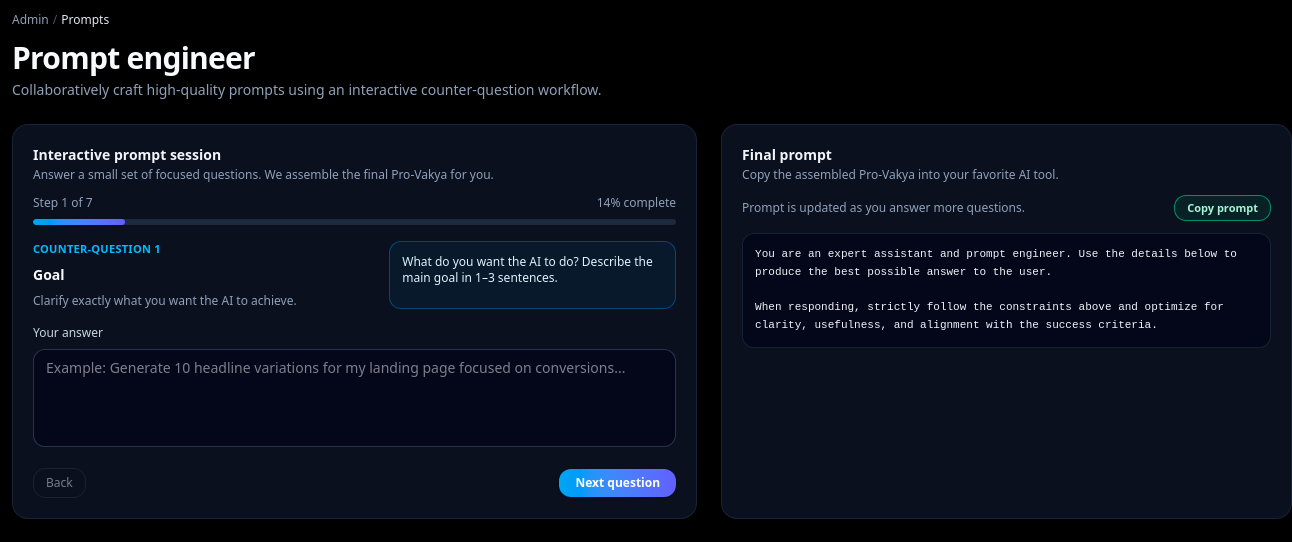
Test case: AdminPromptEngineer › walks through questions and builds a final prompt
Replace the text in the text box with "Help me create landing page copy" at (355, 398), box [33, 349, 676, 447]
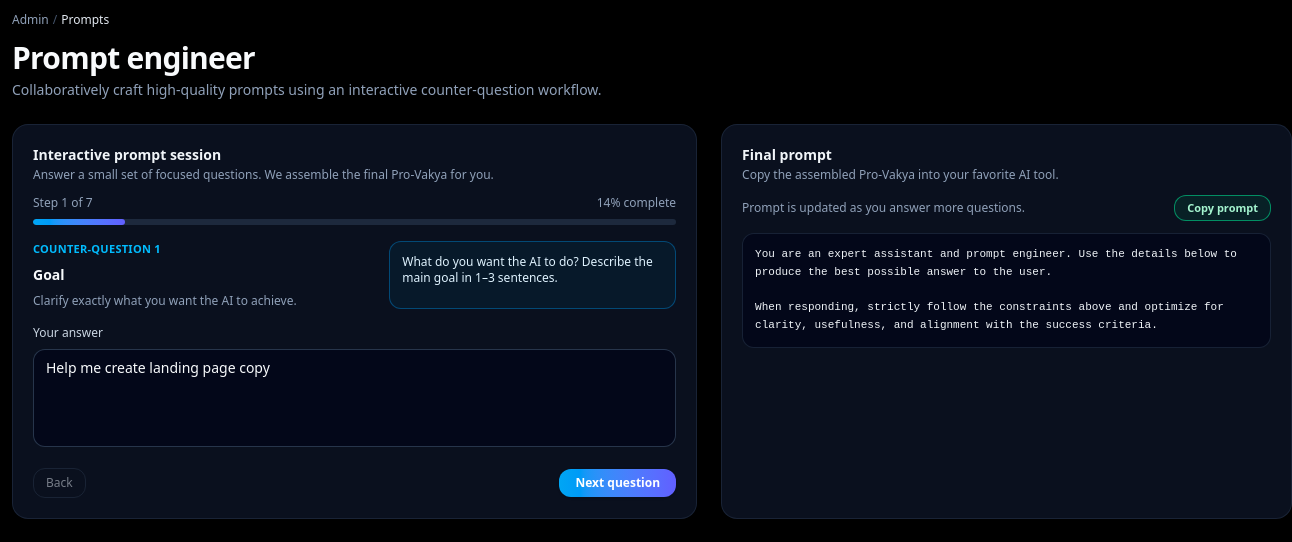
Click the button "Next question".
click(618, 483)  # box [560, 469, 676, 497]
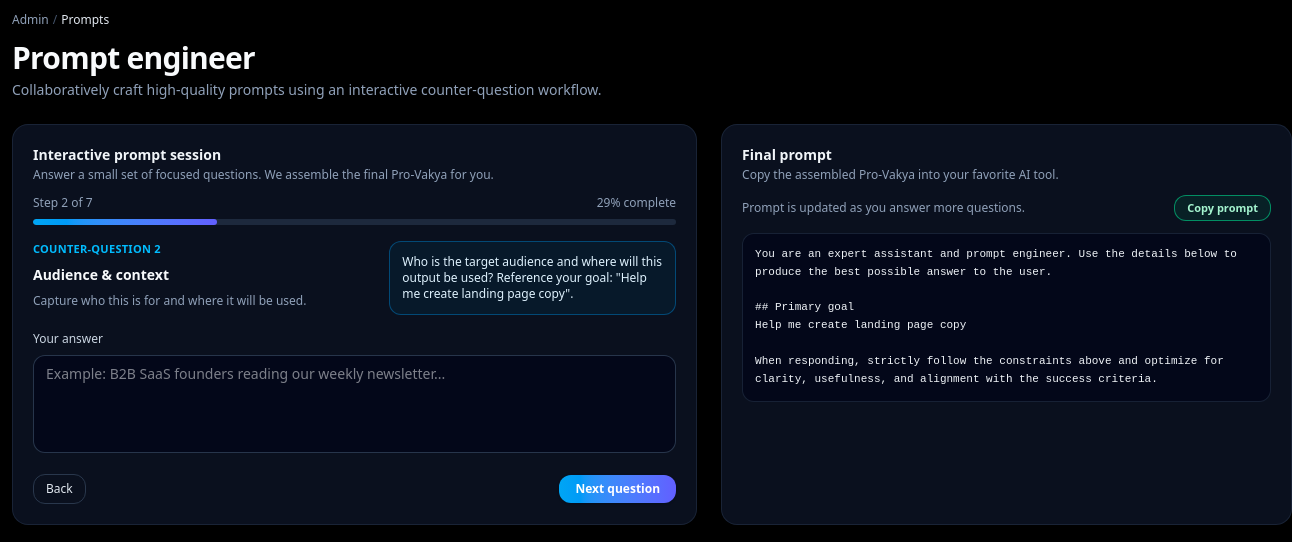
Expected: the heading "Audience & context" is shown, [33, 265, 169, 284]
Expected: the text "Primary goal" is shown, [755, 248, 1244, 385]
